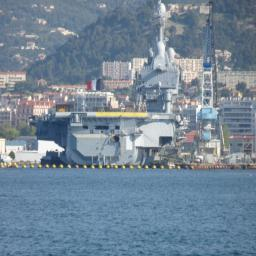Portanaves: (52, 1, 186, 169)
